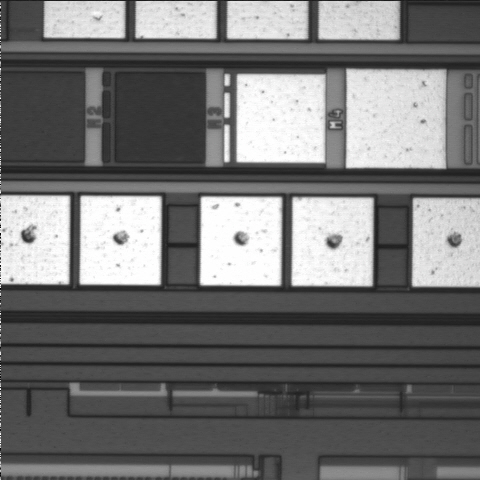pad: (346, 69, 446, 168), (236, 74, 325, 163), (200, 197, 282, 286), (80, 196, 161, 285), (292, 197, 373, 286)
